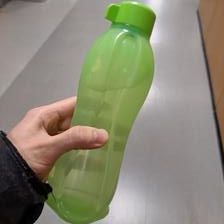bottle: (43, 2, 157, 223)
